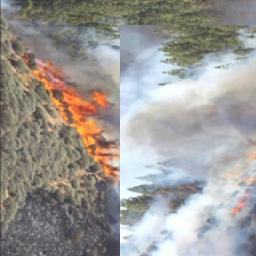Heavy smoke: (122, 35, 250, 255)
Medium fire: (33, 55, 118, 184)
Small fire: (229, 188, 249, 219)
